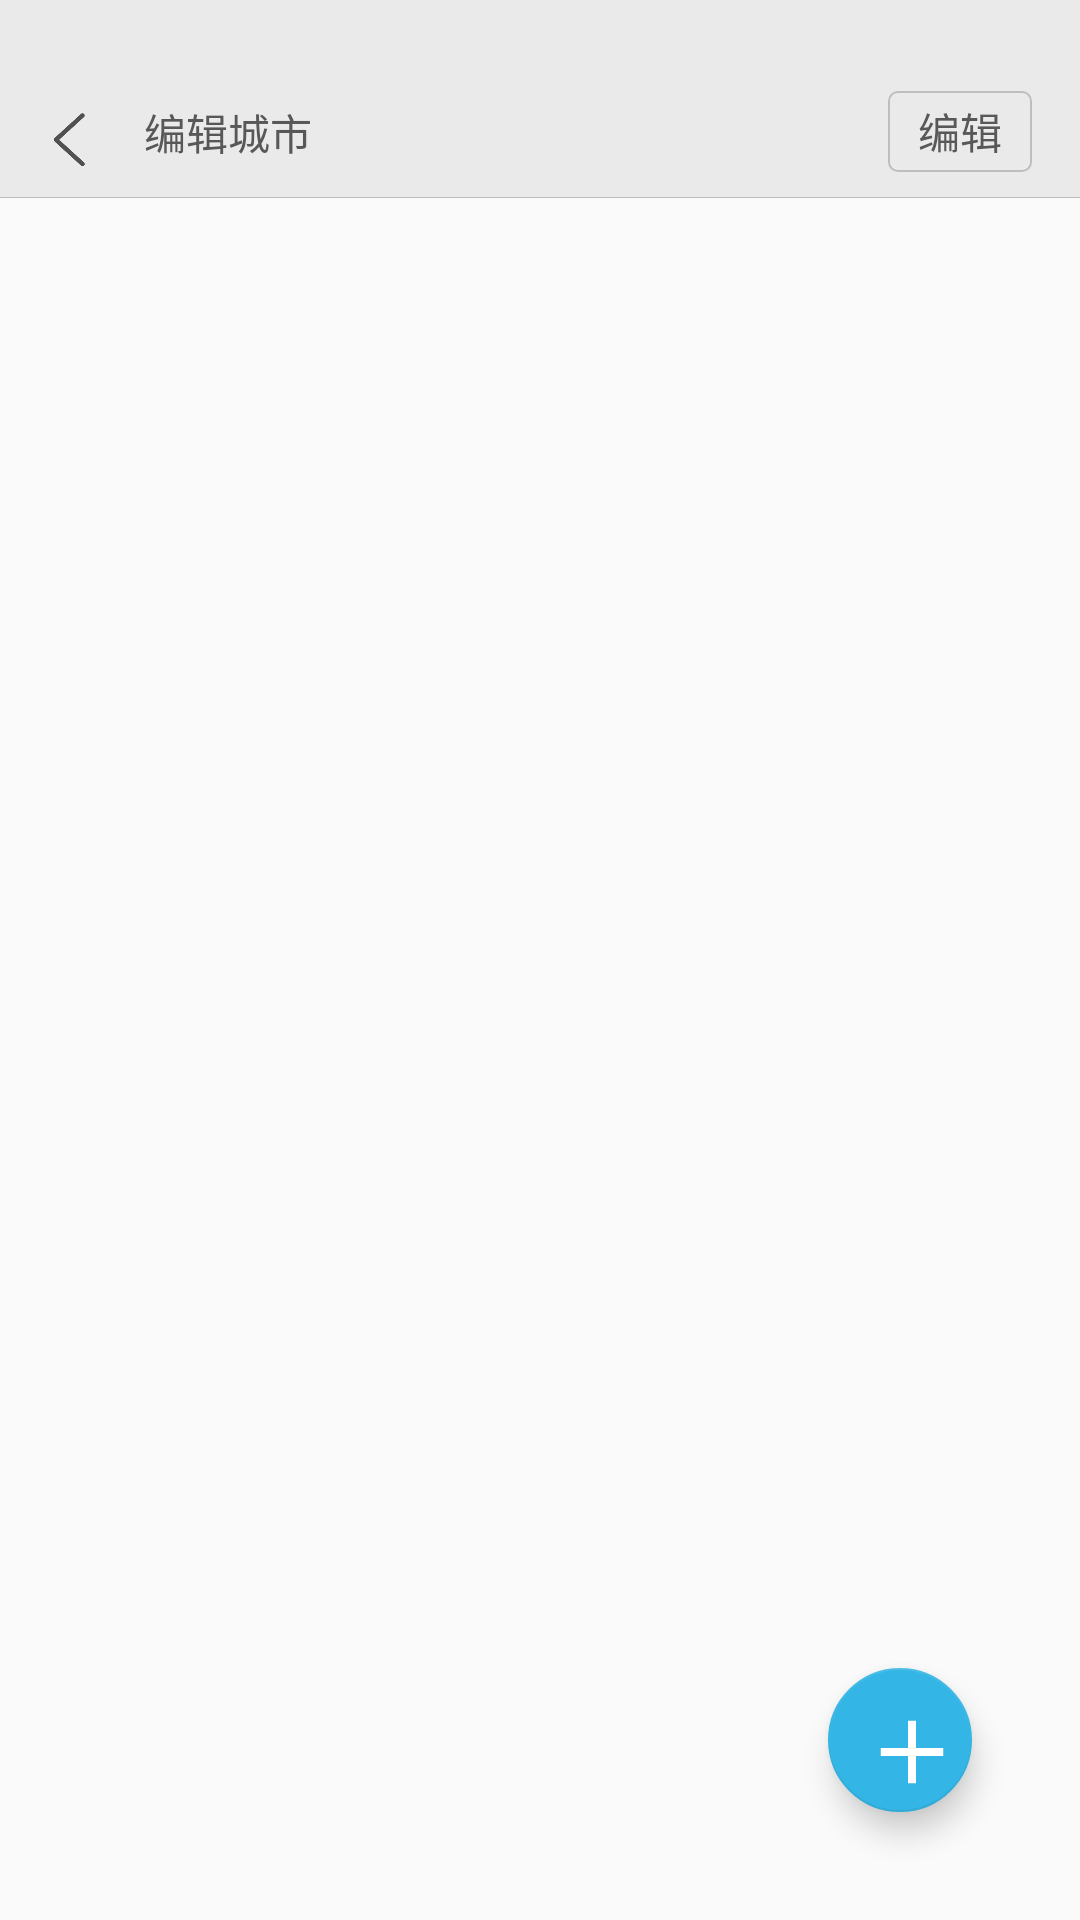

Named icons in this screenshot (1080 x 1920) and their centers, (x=x, y=y):
add: (x=900, y=1740)
back: (x=69, y=139)
